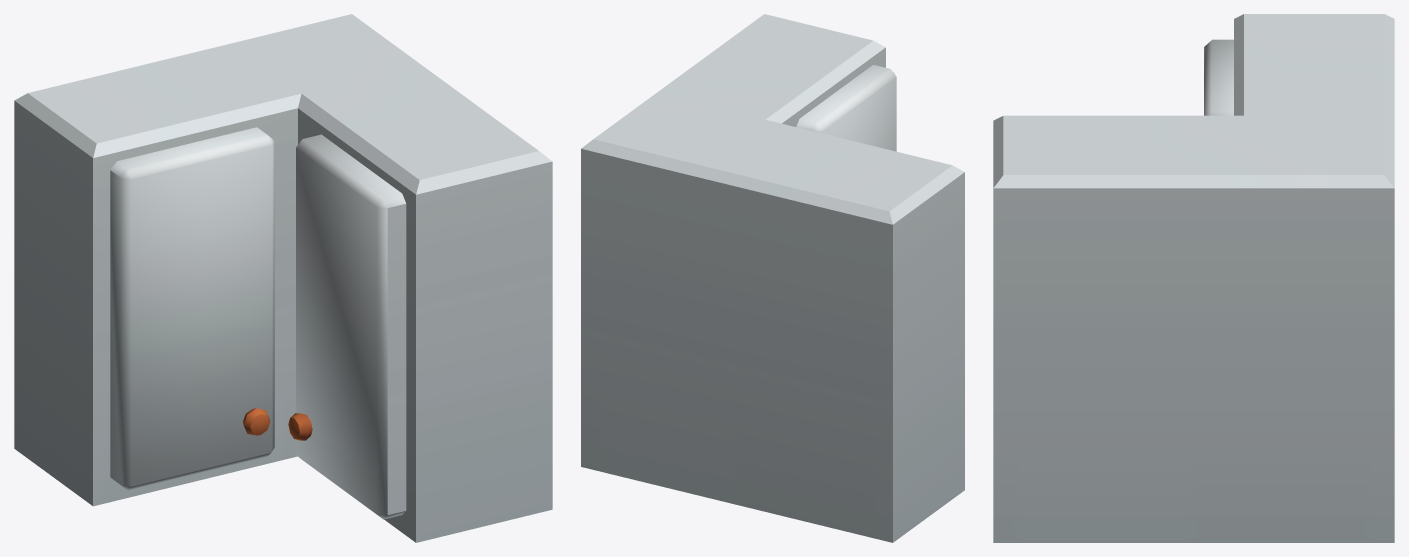
The model's file is kaykit-restaurant-bits-kitchencabinet-corner.glb.
The picture shows the model from 3 angles, left to right: view 1: azimuth 30°, elevation 25°; view 2: azimuth 150°, elevation 25°; view 3: azimuth 270°, elevation 25°; orthographic projection. The views are drawn at different scales.
Parts seen in each view (by area): view 1: kitchencabinet_corner; view 2: kitchencabinet_corner; view 3: kitchencabinet_corner.
Part boxes in pixels (x1=…): kitchencabinet_corner: x1=14, y1=14, x2=552, y2=542; kitchencabinet_corner: x1=581, y1=14, x2=964, y2=542; kitchencabinet_corner: x1=993, y1=14, x2=1394, y2=542.
Bounding box in the file's own units: 2 × 2 × 2.
Materials: 1 (1 with a texture image).
